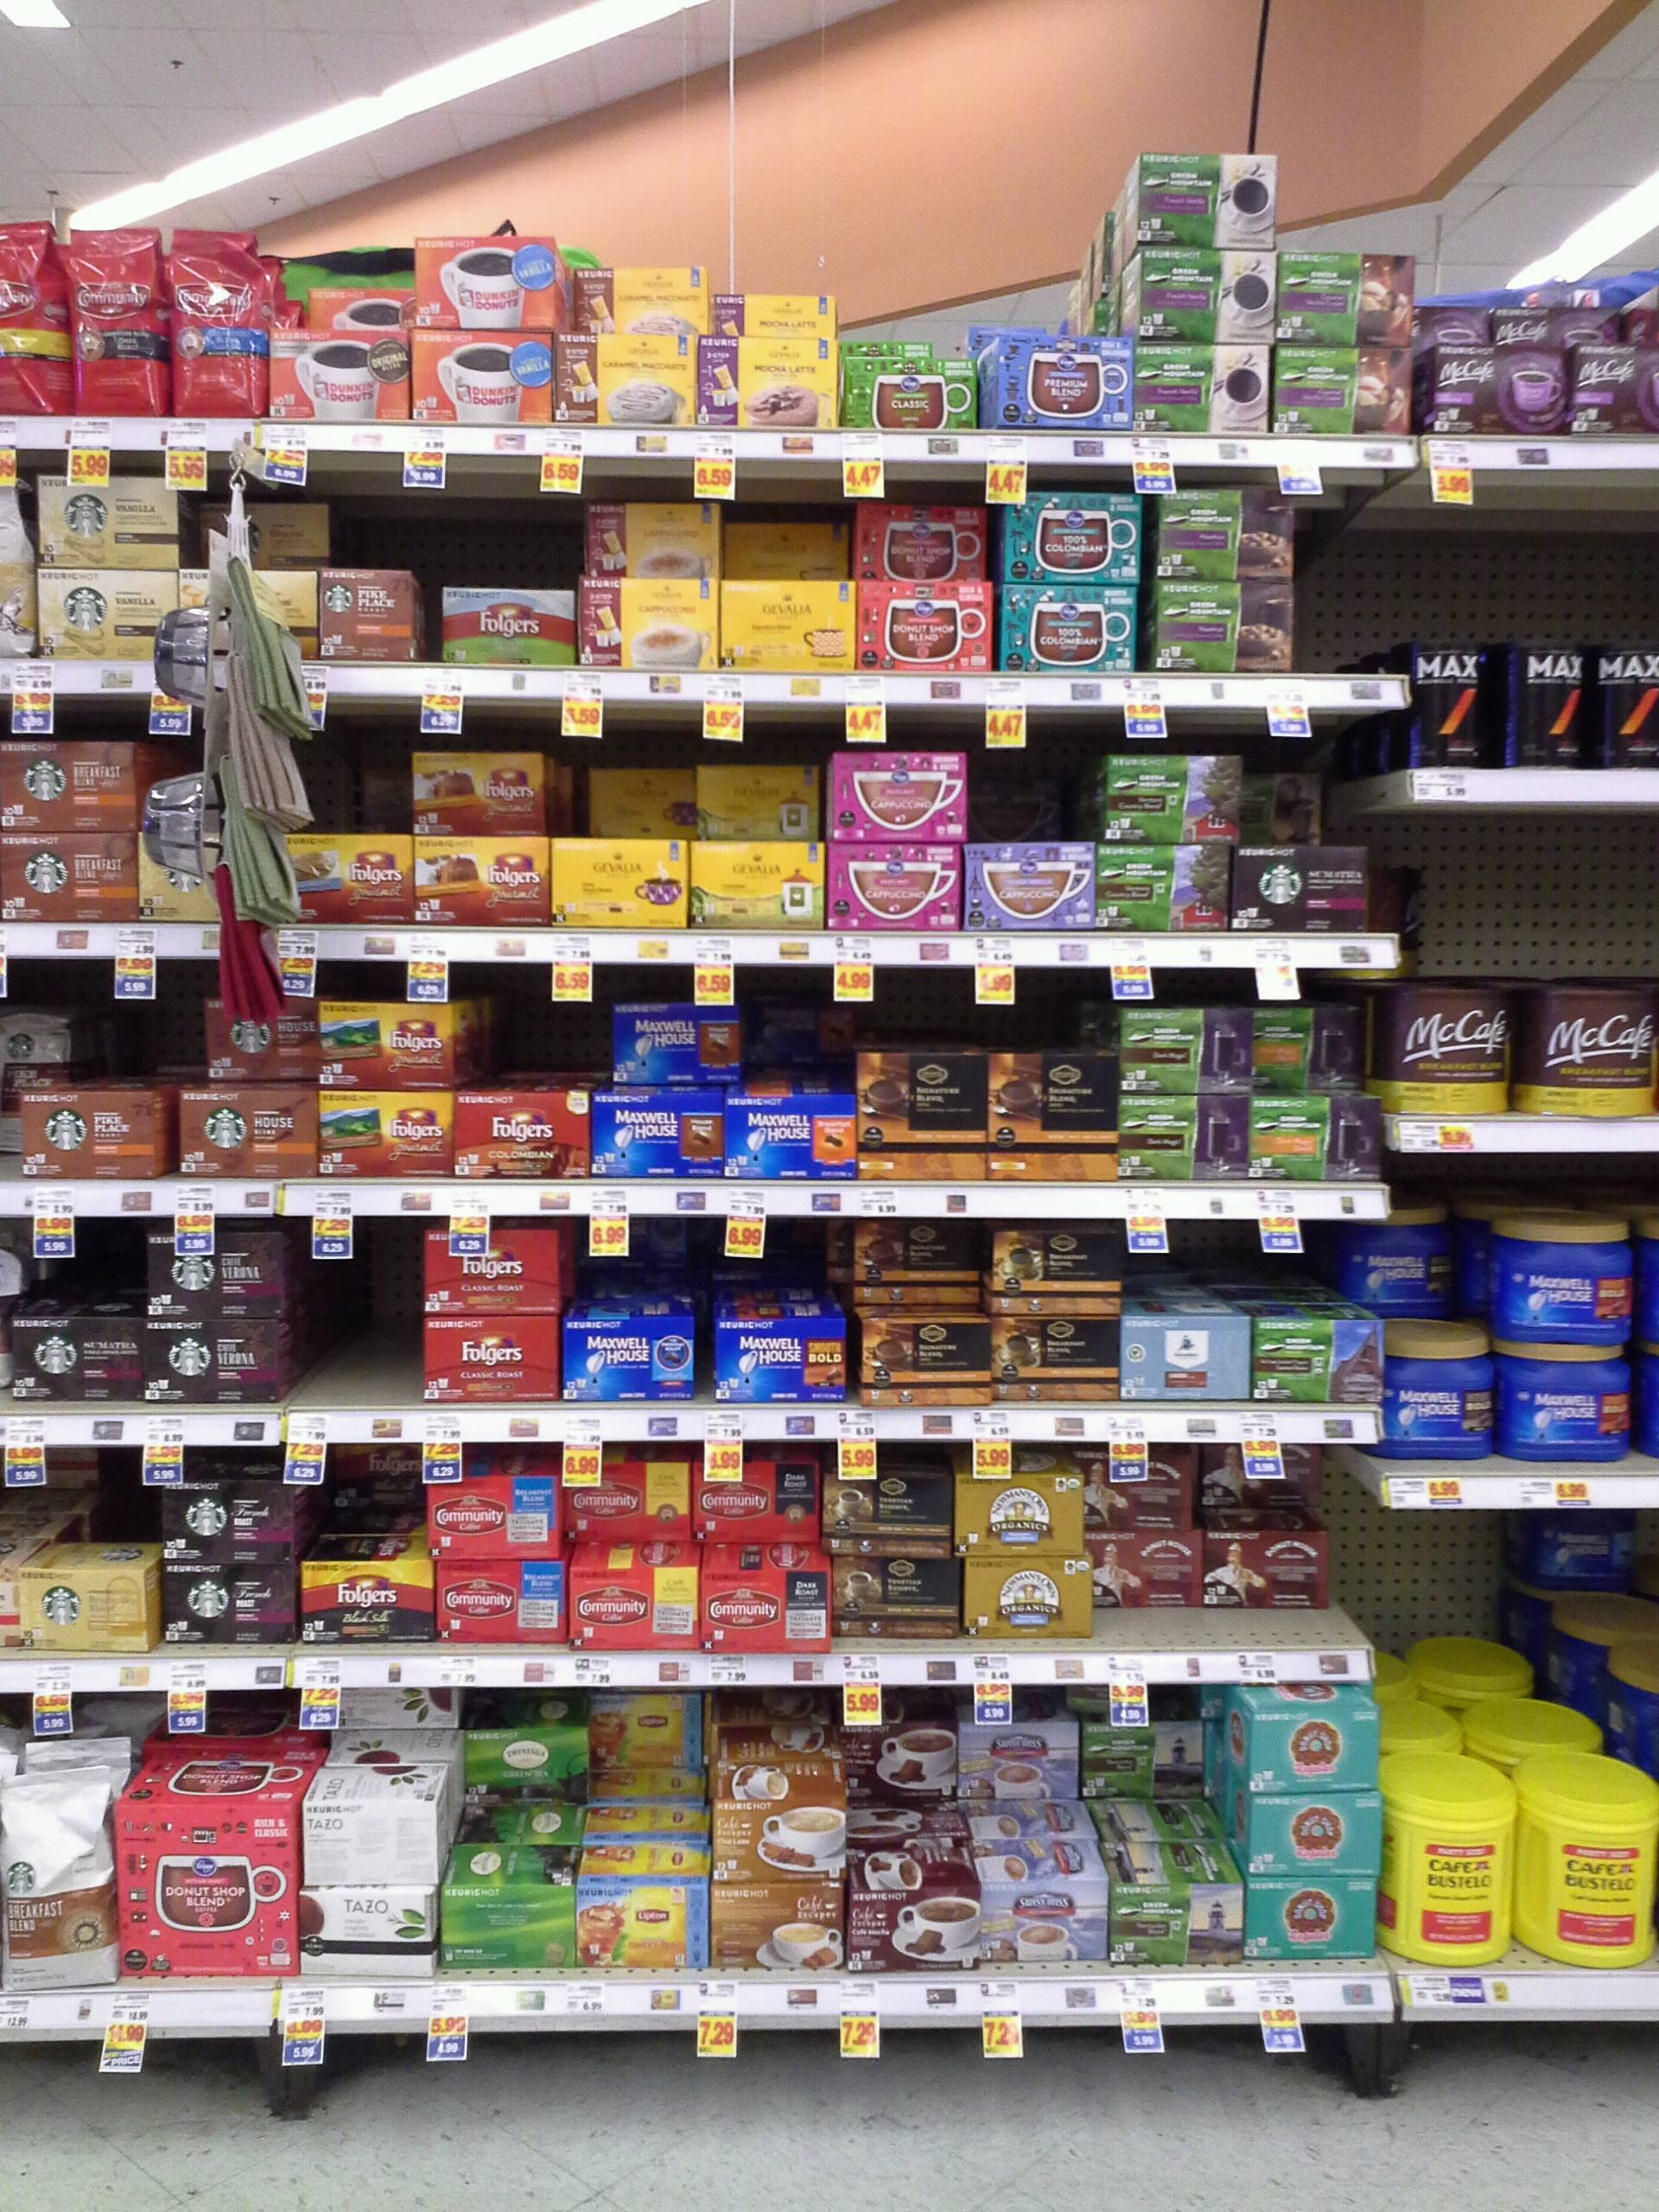Misplacement: (695, 765, 829, 930)
Out-of-stock: (291, 1235, 425, 1442)
